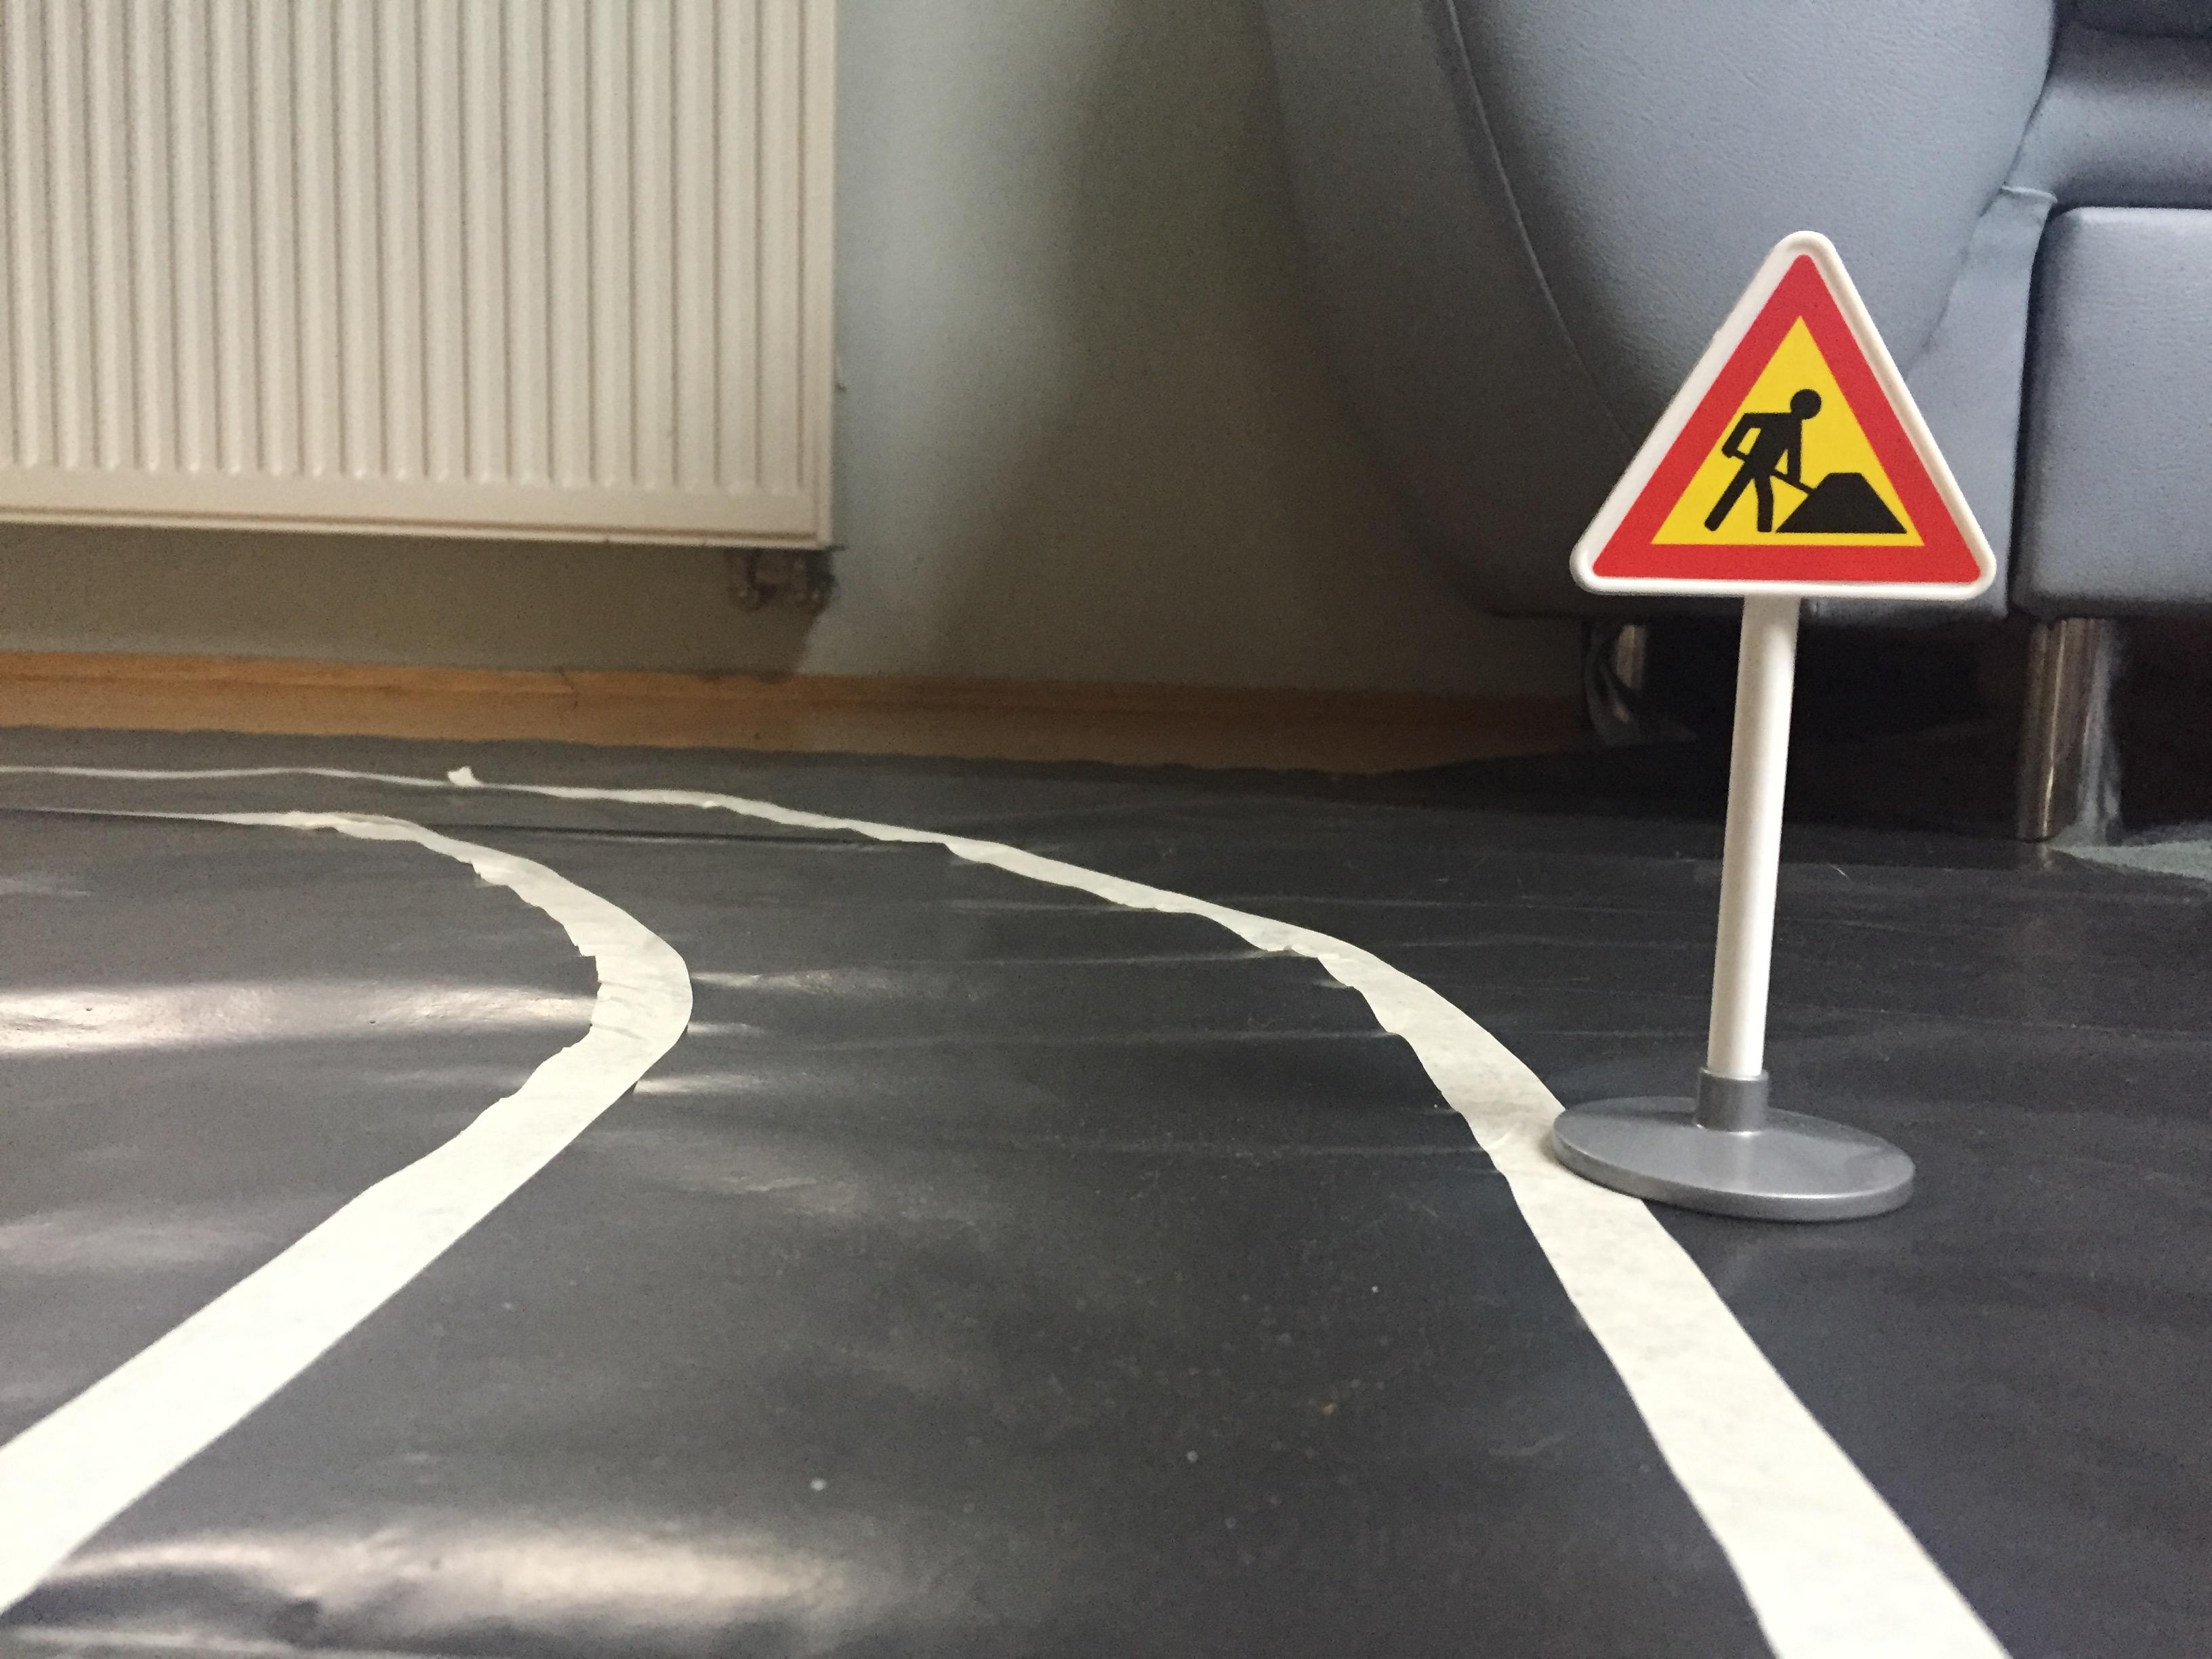work: (1554, 211, 2019, 619)
